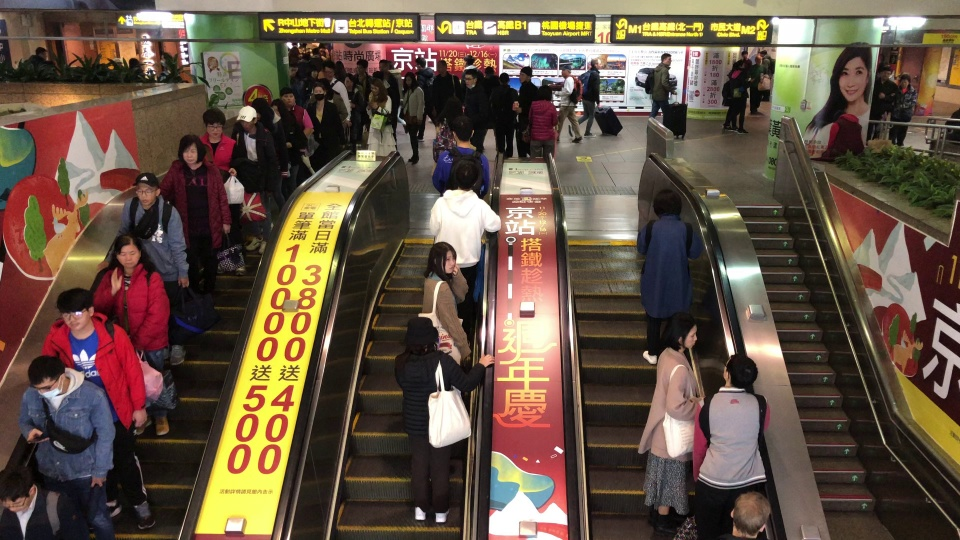person_head: (55, 286, 95, 330), (732, 490, 771, 535), (26, 355, 65, 397), (0, 464, 33, 512), (722, 352, 759, 389), (666, 311, 698, 349), (404, 316, 438, 350), (428, 241, 457, 274), (133, 171, 160, 205), (114, 234, 141, 268), (178, 133, 206, 164), (651, 187, 681, 215), (452, 159, 479, 188), (202, 107, 226, 136), (451, 114, 475, 143), (238, 105, 257, 129), (251, 96, 269, 120), (278, 86, 296, 105), (445, 95, 463, 114), (321, 60, 336, 80), (270, 98, 285, 116), (311, 82, 325, 100), (464, 69, 478, 87), (537, 85, 552, 101), (370, 78, 382, 96), (355, 58, 369, 73), (160, 51, 173, 67), (318, 78, 331, 94), (519, 65, 532, 81), (372, 70, 385, 85), (403, 71, 416, 86), (898, 74, 911, 88), (35, 46, 48, 59), (498, 71, 511, 84), (879, 66, 892, 79), (344, 72, 355, 87), (378, 58, 389, 73), (660, 53, 672, 66), (436, 59, 447, 73), (463, 53, 474, 67), (590, 57, 602, 69), (415, 56, 426, 69), (560, 64, 571, 77), (832, 109, 845, 119), (483, 66, 494, 77), (128, 58, 139, 68), (309, 66, 319, 77), (336, 59, 344, 72), (289, 62, 296, 75), (735, 60, 744, 69), (302, 52, 310, 61), (754, 55, 762, 64), (311, 47, 319, 54), (741, 50, 748, 58), (759, 49, 766, 56)
person_vbox: (39, 286, 157, 528), (391, 316, 495, 525), (15, 355, 116, 540), (95, 171, 189, 366), (91, 233, 171, 437), (636, 310, 705, 539), (692, 352, 771, 535), (428, 158, 502, 346), (155, 133, 232, 306), (634, 187, 705, 365), (198, 107, 247, 275), (229, 105, 279, 254), (0, 463, 89, 539), (422, 241, 472, 360), (430, 114, 490, 197), (251, 96, 289, 227), (270, 97, 307, 191), (304, 82, 345, 158), (308, 60, 351, 132), (810, 108, 864, 164), (567, 57, 603, 139), (429, 95, 463, 177), (645, 52, 678, 135), (460, 69, 491, 151), (365, 78, 396, 158), (866, 66, 897, 146), (525, 85, 558, 159), (718, 60, 750, 136), (553, 63, 583, 144), (491, 72, 519, 158), (514, 65, 538, 157), (402, 71, 425, 164), (888, 73, 916, 145), (413, 55, 435, 144), (277, 86, 314, 138), (308, 78, 348, 121), (372, 70, 399, 131), (430, 60, 460, 114), (378, 58, 400, 131), (482, 65, 499, 152), (343, 73, 364, 142), (749, 53, 766, 116), (459, 54, 485, 93), (353, 60, 371, 100), (300, 66, 319, 103), (759, 49, 772, 100), (297, 52, 311, 71), (310, 47, 322, 63)
